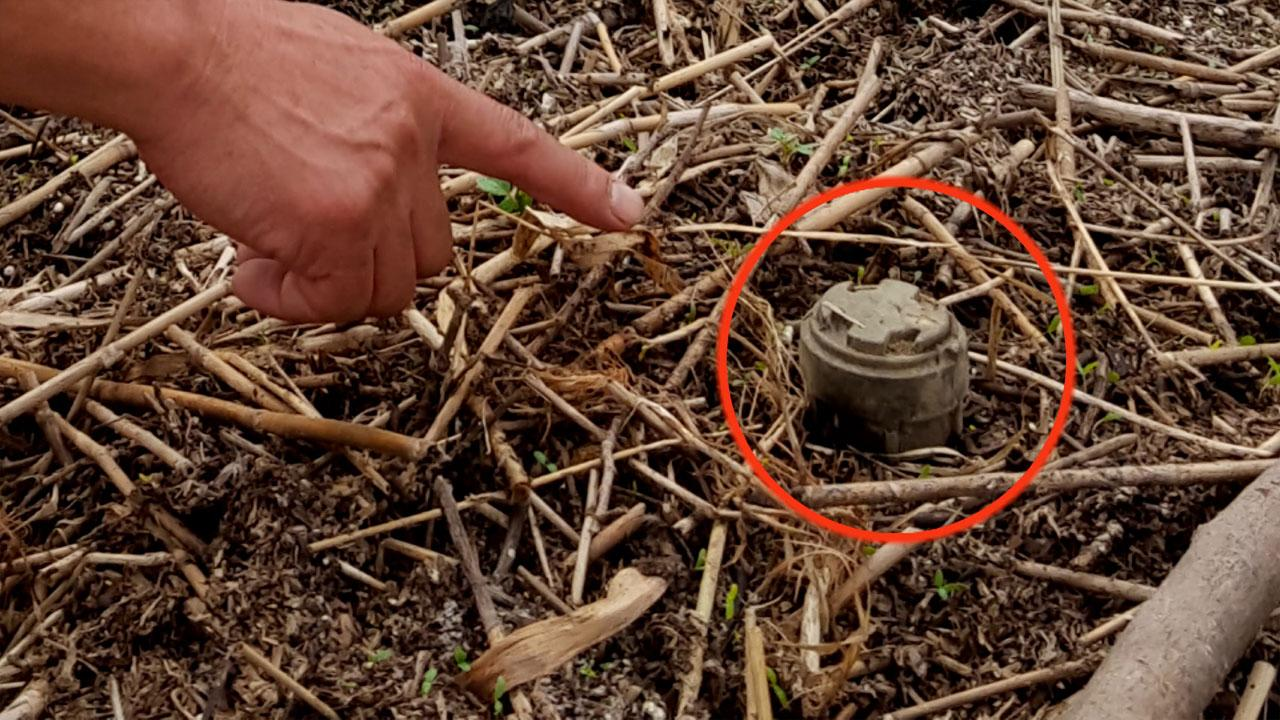pmn: (790, 272, 975, 466)
